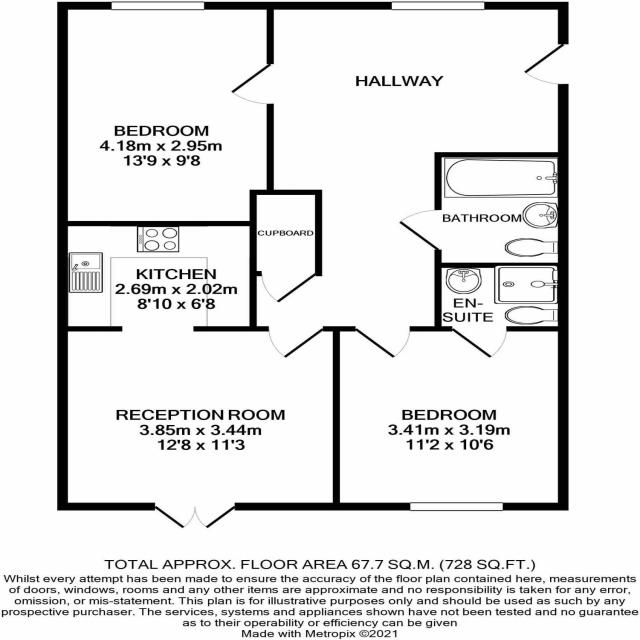DOOR: (519, 36, 570, 90), (444, 326, 516, 364), (226, 58, 275, 111), (391, 206, 442, 256), (346, 325, 414, 362), (263, 326, 330, 362)
DOUBLE DOOR: (150, 501, 240, 532)
ROOM: (56, 219, 341, 532), (58, 1, 274, 227), (337, 328, 570, 511)
WINDOW: (405, 499, 509, 515), (109, 0, 210, 15)
